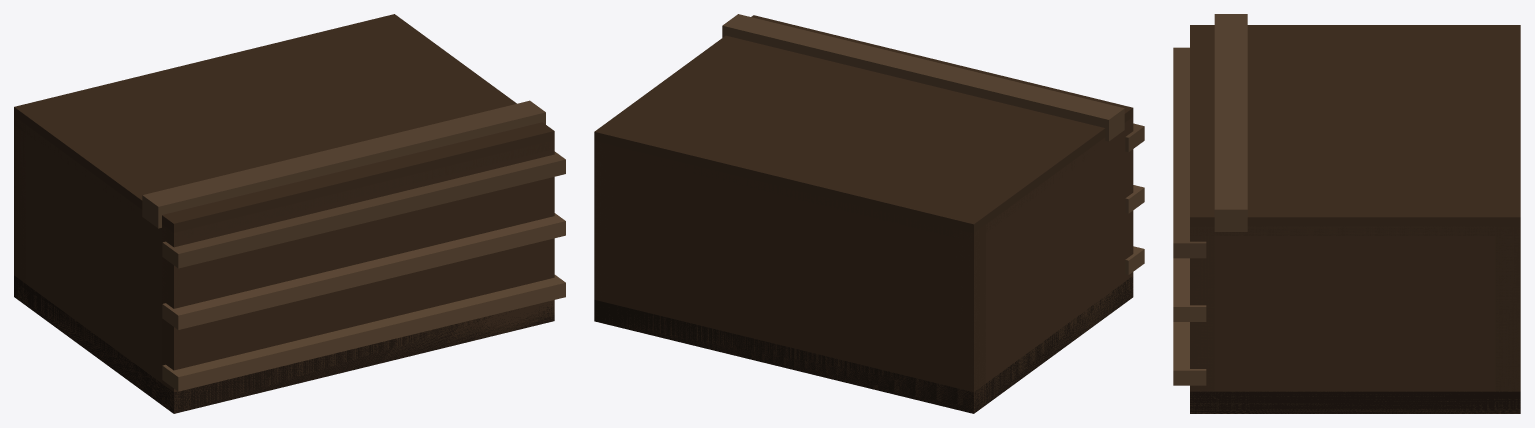
3 views of the same model, side by side, from view 1: azimuth 30°, elevation 25°; view 2: azimuth 150°, elevation 25°; view 3: azimuth 270°, elevation 25° (orthographic). The views are drawn at different scales.
Visible parts, largest first — view 1: Crate, Lid; view 2: Crate, Lid; view 3: Lid, Crate.
Boxes of the visible parts, x1,y1,x2,y2 form: Crate: [14, 116, 565, 413]; Lid: [14, 14, 554, 237]; Crate: [594, 117, 1144, 413]; Lid: [594, 14, 1133, 241]; Lid: [1190, 14, 1520, 235]; Crate: [1173, 47, 1520, 413].
Size of the model in its own units: 1.12 by 0.55 by 0.84.
